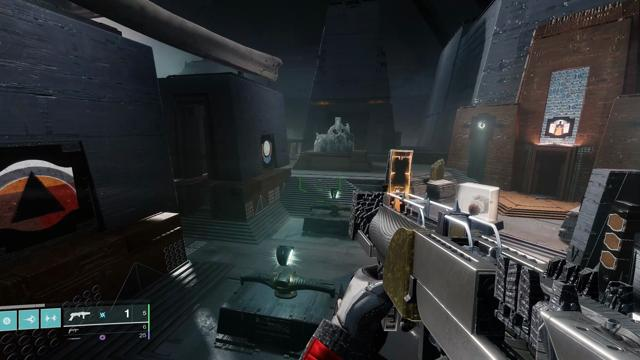pyramid: (0, 159, 79, 232)
traveler: (262, 140, 272, 164)
worship: (549, 120, 570, 136)
